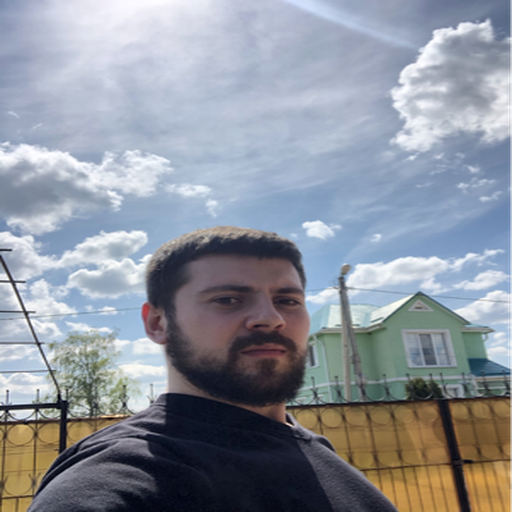person: (206, 274, 306, 375)
